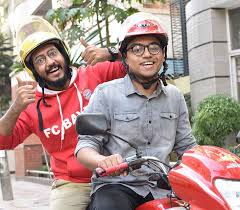helmet: (112, 9, 179, 83), (9, 17, 75, 92)
